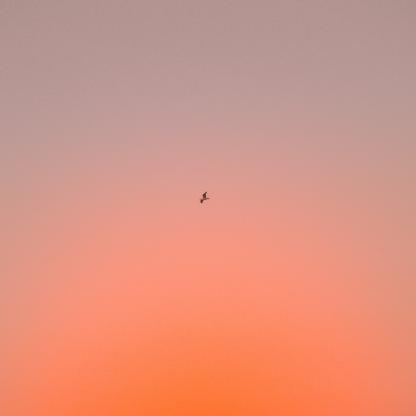bird: (199, 192, 209, 204)
